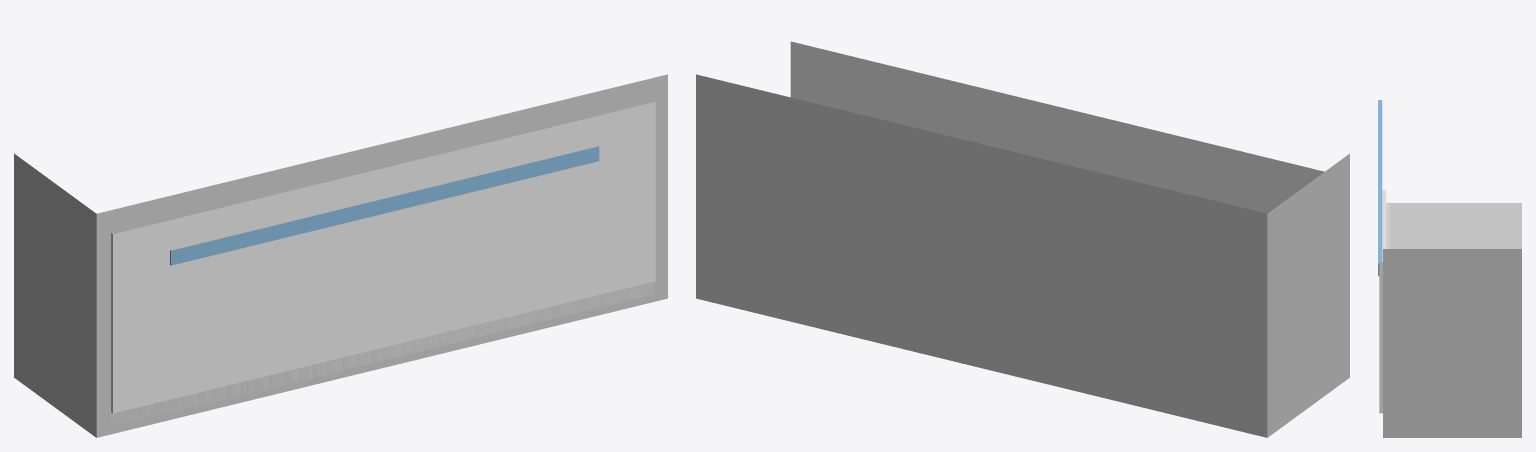
Rendered from ac_wall.glb.
3 views of the same model, side by side, from view 1: azimuth 30°, elevation 25°; view 2: azimuth 150°, elevation 25°; view 3: azimuth 270°, elevation 25° (orthographic). The views are drawn at different scales.
Size of the model in its own units: 0.8 by 0.3 by 0.207.
